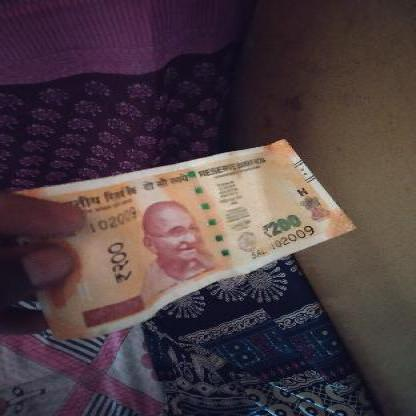New200Front: (19, 143, 352, 322)
